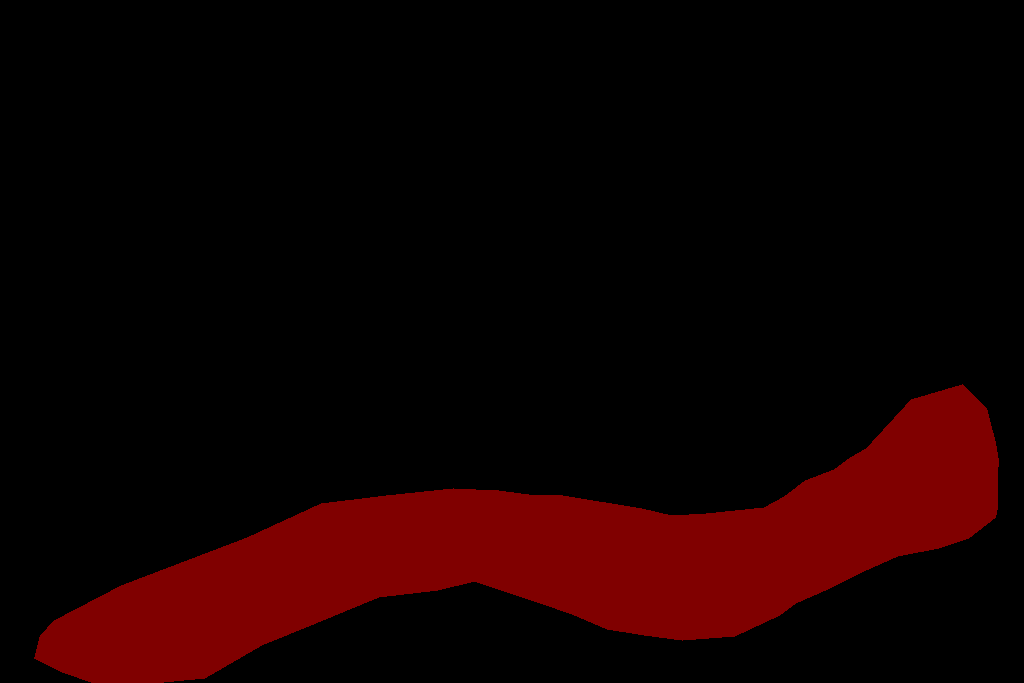fire: (34, 384, 998, 682)
